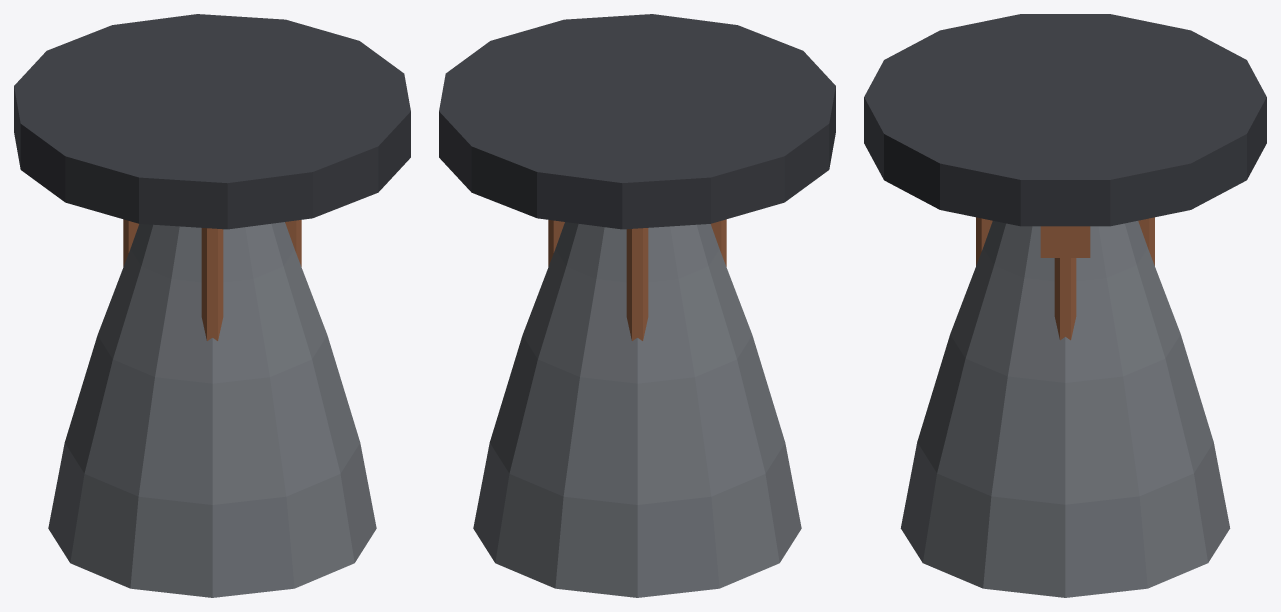
File: Eng_S_Spark.fbx
3 renders of one model, left to right at view 1: azimuth 30°, elevation 25°; view 2: azimuth 150°, elevation 25°; view 3: azimuth 270°, elevation 25°, orthographic.
Parts seen in each view (by area): view 1: Eng_S_Spark; view 2: Eng_S_Spark; view 3: Eng_S_Spark.
Part boxes in pixels (x1,y1,x2,y2): Eng_S_Spark: (14,14,410,597); Eng_S_Spark: (439,14,835,597); Eng_S_Spark: (864,14,1266,597).
Size of the model in its own units: 1.07 by 1.3 by 1.1.
1 material, 1 textured.
